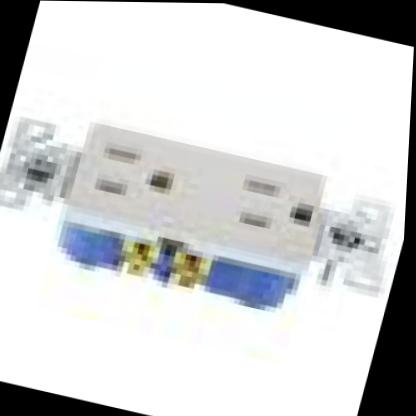OUTLET: (56, 119, 335, 275)
